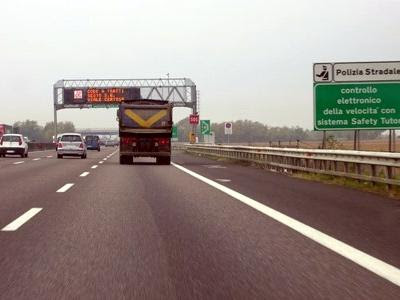car: (53, 133, 85, 159), (1, 132, 32, 158)
